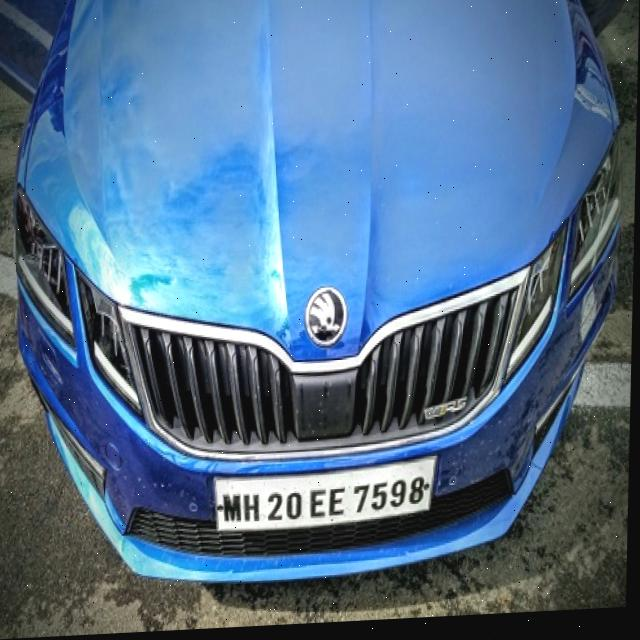plate: (214, 462, 442, 538)
